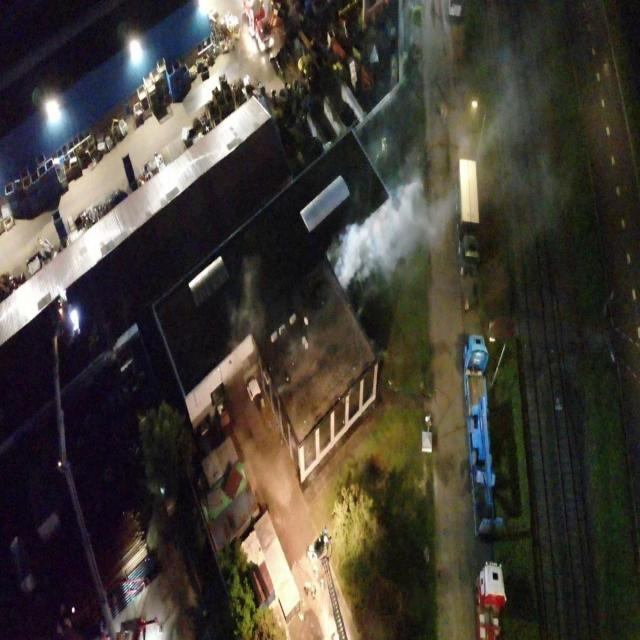Smoke: (328, 21, 561, 298), (225, 250, 267, 384)
